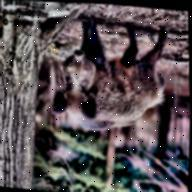boar: (39, 2, 191, 153)
